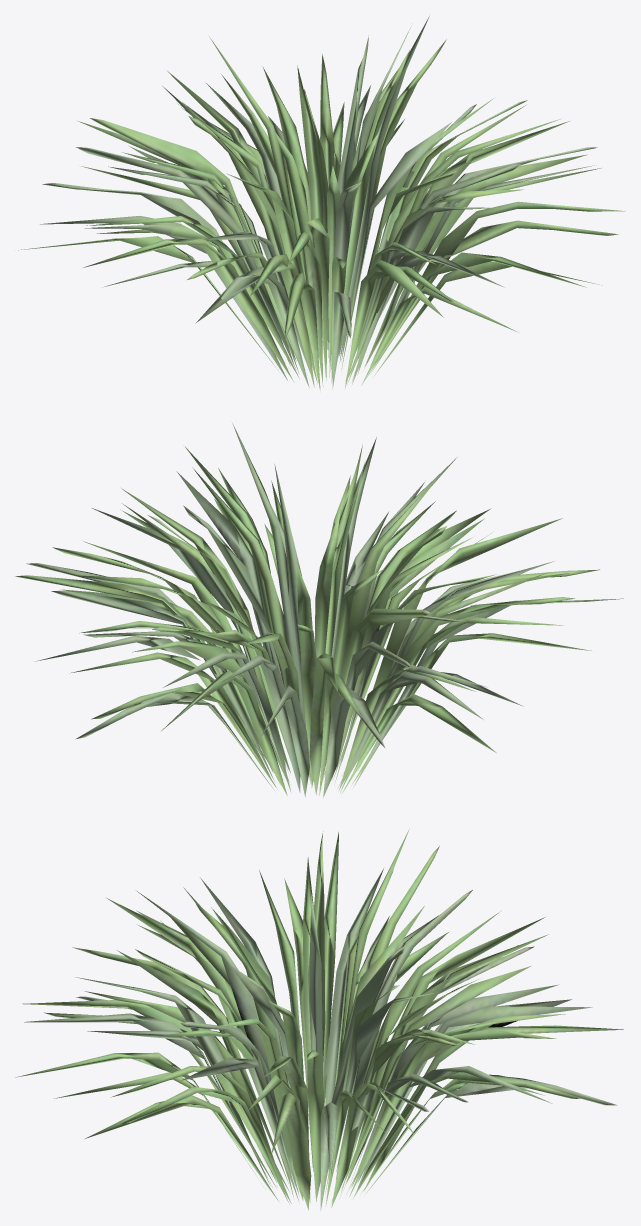
Rendered from grass-clump.glb.
3 views of the same model, one above another, from view 1: azimuth 30°, elevation 25°; view 2: azimuth 150°, elevation 25°; view 3: azimuth 270°, elevation 25° (orthographic).
Parts seen in each view (by area): view 1: grass-clump_body; view 2: grass-clump_body; view 3: grass-clump_body.
Boxes of the visible parts, x1,y1,x2,y2 form: grass-clump_body: (18,16,625,390); grass-clump_body: (15,423,623,798); grass-clump_body: (15,828,623,1211).
Size of the model in its own units: 0.6573 by 0.3881 by 0.6354.
1 material, 1 textured.
